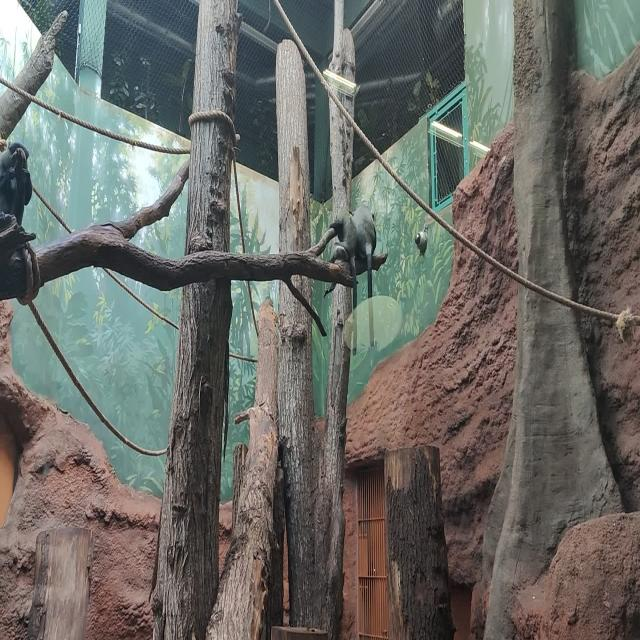monkey: (328, 211, 358, 356), (354, 205, 376, 347), (0, 141, 32, 226)
